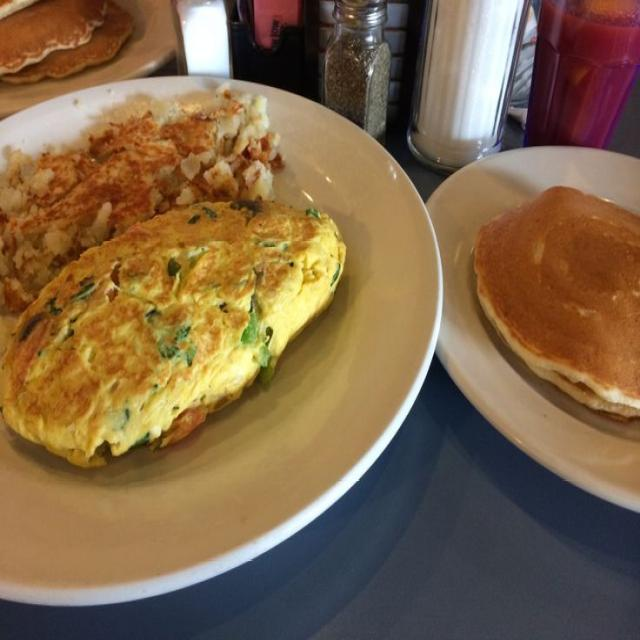Omelette: (6, 177, 351, 465)
Pancakes: (458, 167, 639, 417)
